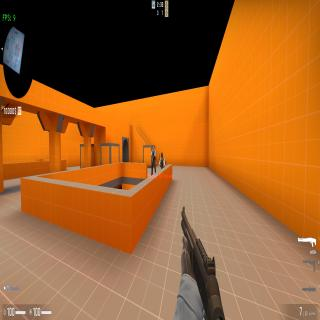T-Body: (151, 148, 156, 176), (159, 156, 165, 170)
T-Head: (161, 152, 163, 159), (153, 145, 154, 150)
